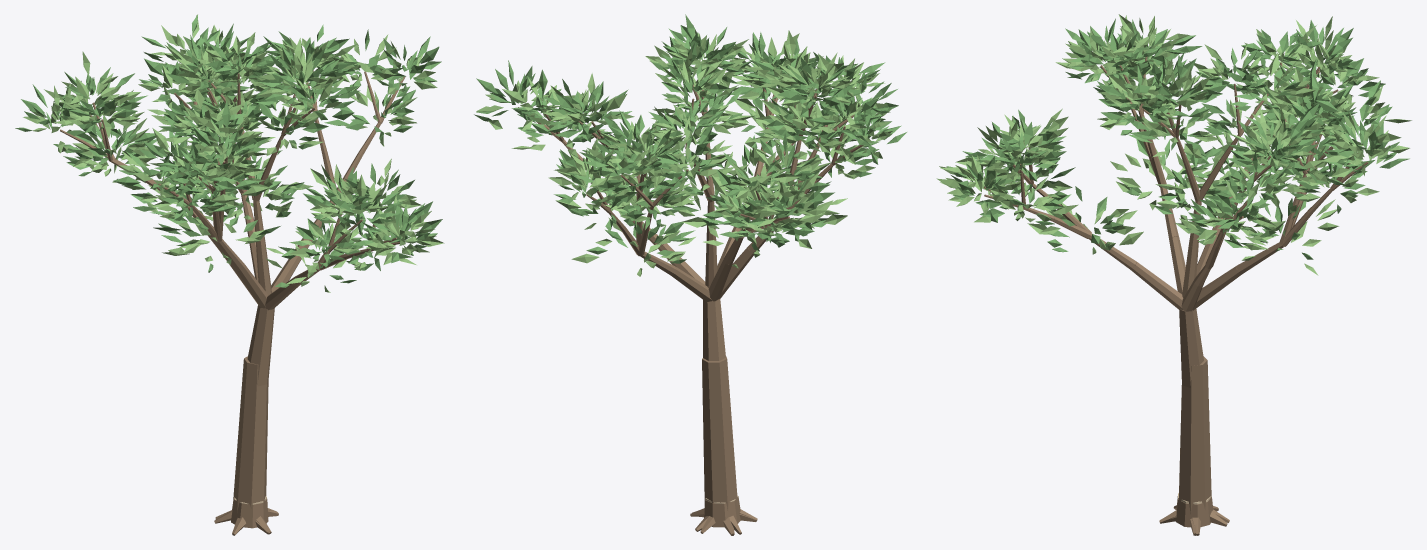
File: plant-broadleaf-b.glb
The picture shows the model from 3 angles, left to right: view 1: azimuth 30°, elevation 25°; view 2: azimuth 150°, elevation 25°; view 3: azimuth 270°, elevation 25°; orthographic projection. The views are drawn at different scales.
Parts seen in each view (by area): view 1: plant-broadleaf-b_standing_leafA, plant-broadleaf-b_standing_leafB, plant-broadleaf-b_standing_bark, plant-broadleaf-b_stump_bark; view 2: plant-broadleaf-b_standing_leafA, plant-broadleaf-b_standing_leafB, plant-broadleaf-b_standing_bark, plant-broadleaf-b_stump_bark; view 3: plant-broadleaf-b_standing_leafA, plant-broadleaf-b_standing_leafB, plant-broadleaf-b_standing_bark, plant-broadleaf-b_stump_bark.
Boxes of the visible parts, x1,y1,x2,y2 form: plant-broadleaf-b_standing_leafA: [15, 15, 442, 287]; plant-broadleaf-b_standing_leafB: [23, 14, 444, 292]; plant-broadleaf-b_standing_bark: [60, 70, 405, 535]; plant-broadleaf-b_stump_bark: [215, 497, 278, 534]; plant-broadleaf-b_standing_leafA: [474, 14, 906, 263]; plant-broadleaf-b_standing_leafB: [476, 24, 892, 276]; plant-broadleaf-b_standing_bark: [518, 84, 863, 534]; plant-broadleaf-b_stump_bark: [692, 496, 756, 535]; plant-broadleaf-b_standing_leafA: [946, 18, 1409, 259]; plant-broadleaf-b_standing_leafB: [936, 14, 1411, 275]; plant-broadleaf-b_standing_bark: [983, 56, 1368, 535]; plant-broadleaf-b_stump_bark: [1161, 494, 1227, 535].
Bounding box in the file's own units: 6.7 × 8.12 × 7.2.
